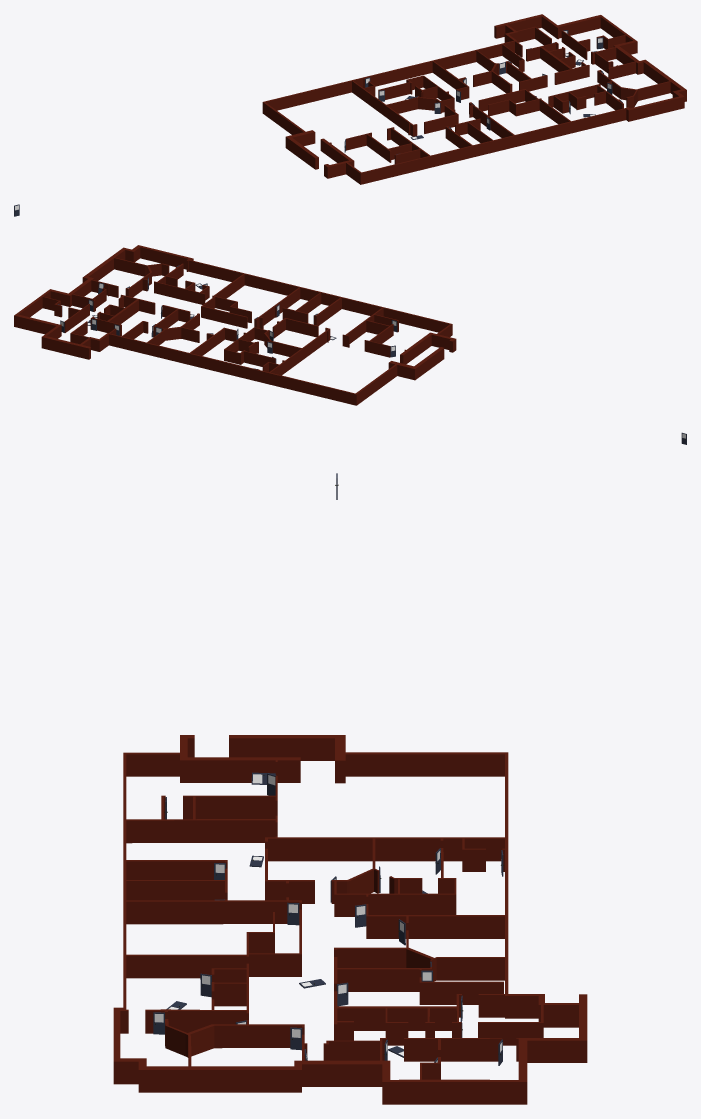
The model's file is lab_map.obj.
3 renders of one model, top to bottom at view 1: azimuth 30°, elevation 25°; view 2: azimuth 150°, elevation 25°; view 3: azimuth 270°, elevation 25°, orthographic. The views are drawn at different scales.
Parts seen in each view (by area): view 1: Cube.001; view 2: Cube.001; view 3: Cube.001.
Boxes of the visible parts, box(x1,y1,x2,y2) form: Cube.001: box(262, 14, 686, 184); Cube.001: box(14, 245, 456, 405); Cube.001: box(113, 735, 587, 1104).
Size of the model in its own units: 665 by 11.9 by 218.
